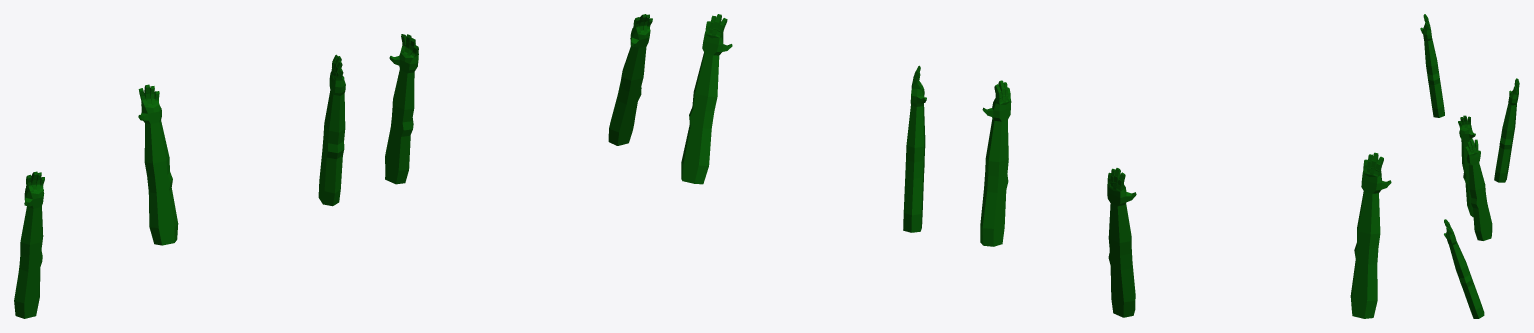
File: arms.52637c1b.glb
The picture shows the model from 3 angles, left to right: view 1: azimuth 30°, elevation 25°; view 2: azimuth 150°, elevation 25°; view 3: azimuth 270°, elevation 25°; orthographic projection. The views are drawn at different scales.
Visible parts, largest first — view 1: two arms, arm 1, arm 3, arm 2; view 2: two arms, arm 2, arm 3, arm 1; view 3: two arms, arm 1, arm 2, arm 3.
Boxes of the visible parts, bbox=[...] form: two arms: bbox=[318, 34, 418, 206]; arm 1: bbox=[138, 84, 178, 245]; arm 3: bbox=[14, 171, 44, 318]; arm 2: bbox=[608, 14, 652, 145]; two arms: bbox=[903, 65, 1011, 246]; arm 2: bbox=[681, 14, 732, 184]; arm 3: bbox=[1350, 152, 1391, 318]; arm 1: bbox=[1107, 168, 1136, 317]; two arms: bbox=[1458, 115, 1492, 240]; arm 1: bbox=[1494, 78, 1519, 182]; arm 2: bbox=[1444, 219, 1484, 318]; arm 3: bbox=[1420, 14, 1444, 117].
Bounding box in the file's own units: 7.83 × 1.96 × 1.57.
